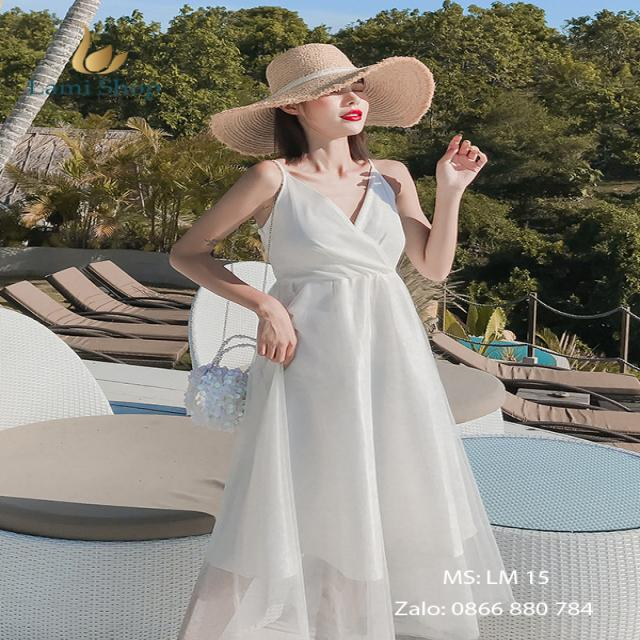clothes: (199, 152, 523, 640)
